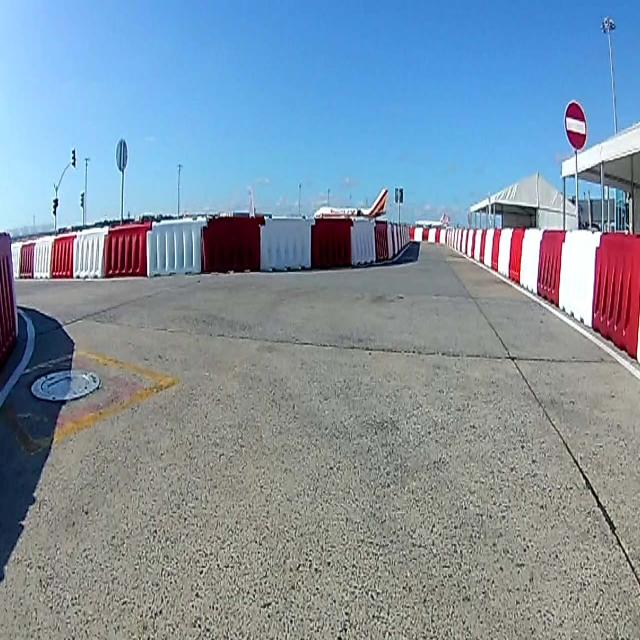girisyok: (564, 97, 586, 148)
